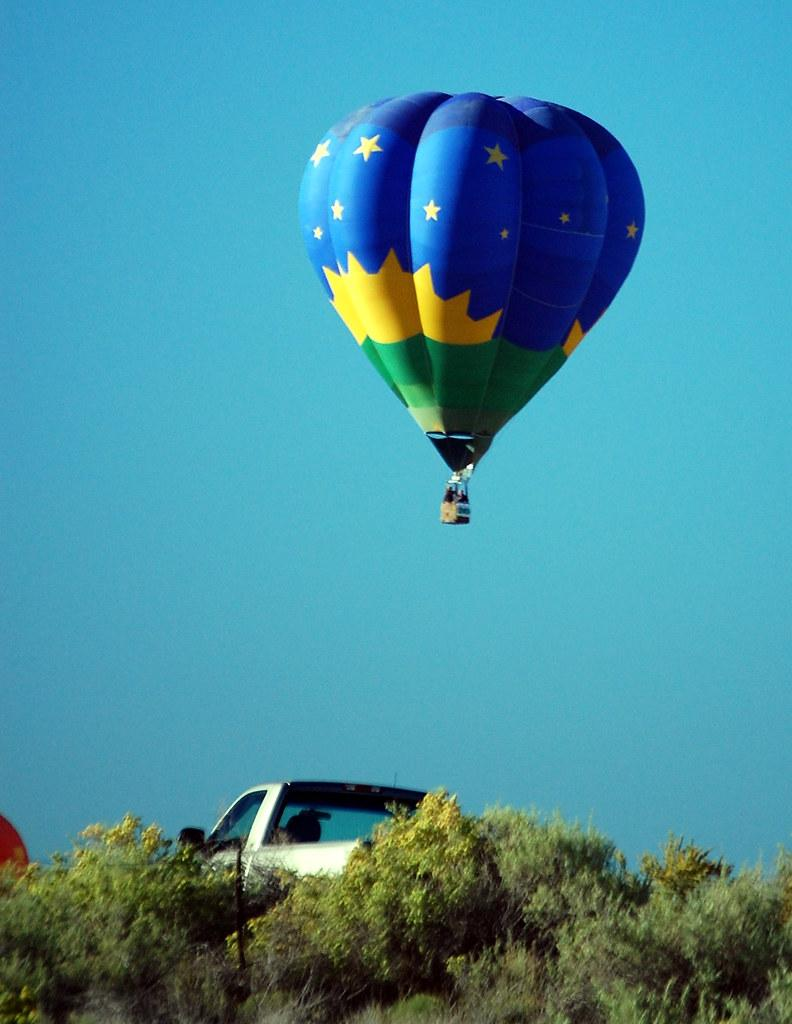balloon: (297, 88, 647, 526)
